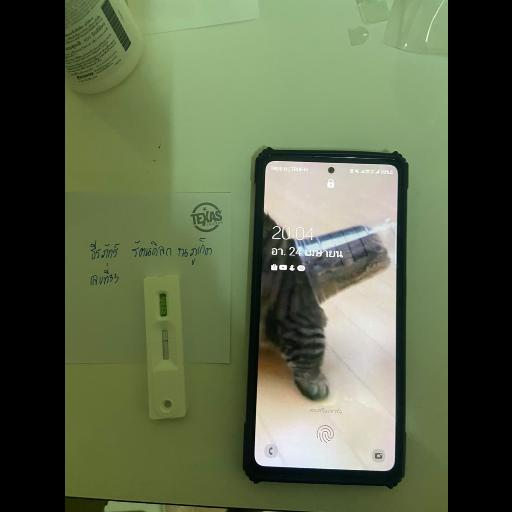Neg: (143, 276, 186, 420)
